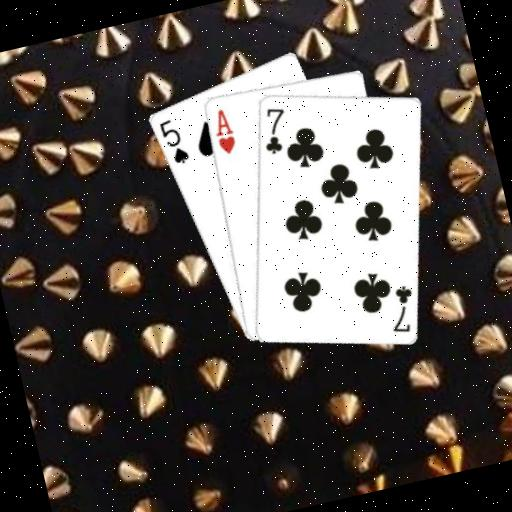5S: (155, 113, 192, 169)
7C: (380, 280, 422, 337), (254, 102, 295, 158)
AH: (207, 104, 240, 158)
